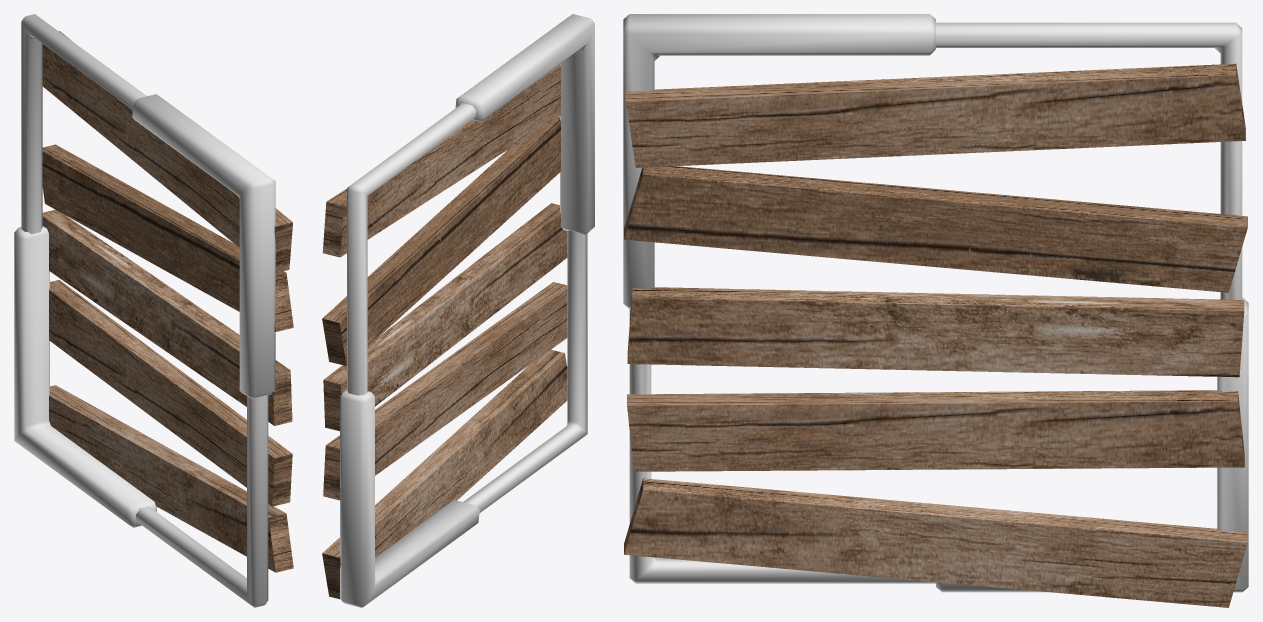
The model's file is frame.fbx.
3 renders of one model, left to right at view 1: azimuth 30°, elevation 25°; view 2: azimuth 150°, elevation 25°; view 3: azimuth 270°, elevation 25°, orthographic. The views are drawn at different scales.
Parts seen in each view (by area): view 1: frame, plank 4, plank 3, plank 2, plank 5, plank 1; view 2: frame, plank 2, plank 3, plank 4, plank 5, plank 1; view 3: plank 5, plank 1, plank 3, plank 2, plank 4, frame.
Boxes of the visible parts, bbox=[...] form: frame: bbox=[14, 14, 275, 607]; plank 4: bbox=[49, 280, 292, 506]; plank 3: bbox=[42, 209, 292, 425]; plank 2: bbox=[42, 144, 293, 331]; plank 5: bbox=[49, 385, 293, 572]; plank 1: bbox=[42, 31, 292, 272]; frame: bbox=[340, 14, 594, 607]; plank 2: bbox=[322, 117, 560, 365]; plank 3: bbox=[323, 203, 567, 431]; plank 4: bbox=[323, 282, 567, 500]; plank 5: bbox=[322, 349, 567, 599]; plank 1: bbox=[322, 64, 560, 257]; plank 5: bbox=[624, 478, 1247, 607]; plank 1: bbox=[626, 63, 1245, 167]; plank 3: bbox=[627, 287, 1244, 377]; plank 2: bbox=[624, 166, 1247, 292]; plank 4: bbox=[627, 390, 1244, 471]; frame: bbox=[623, 14, 1248, 592].
Size of the model in its own units: 0.222 by 2.05 by 2.04.
